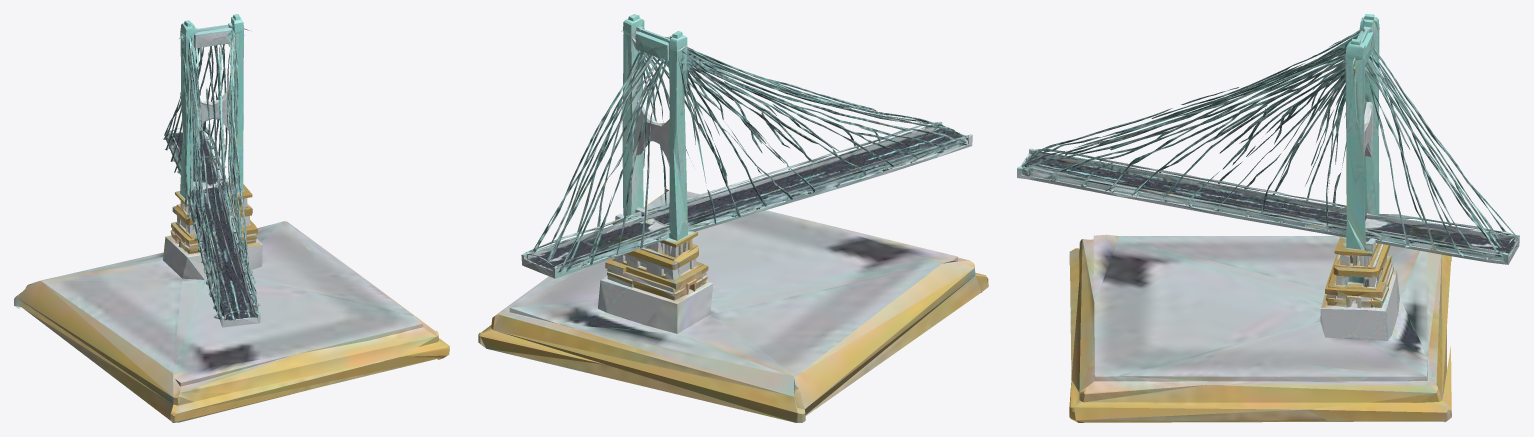
Rendered from lm_cross_city_bridge.glb.
The picture shows the model from 3 angles, left to right: view 1: azimuth 30°, elevation 25°; view 2: azimuth 150°, elevation 25°; view 3: azimuth 270°, elevation 25°; orthographic projection. The views are drawn at different scales.
Size of the model in its own units: 1.45 by 1.39 by 1.9.
Materials: 1 (1 with a texture image).
